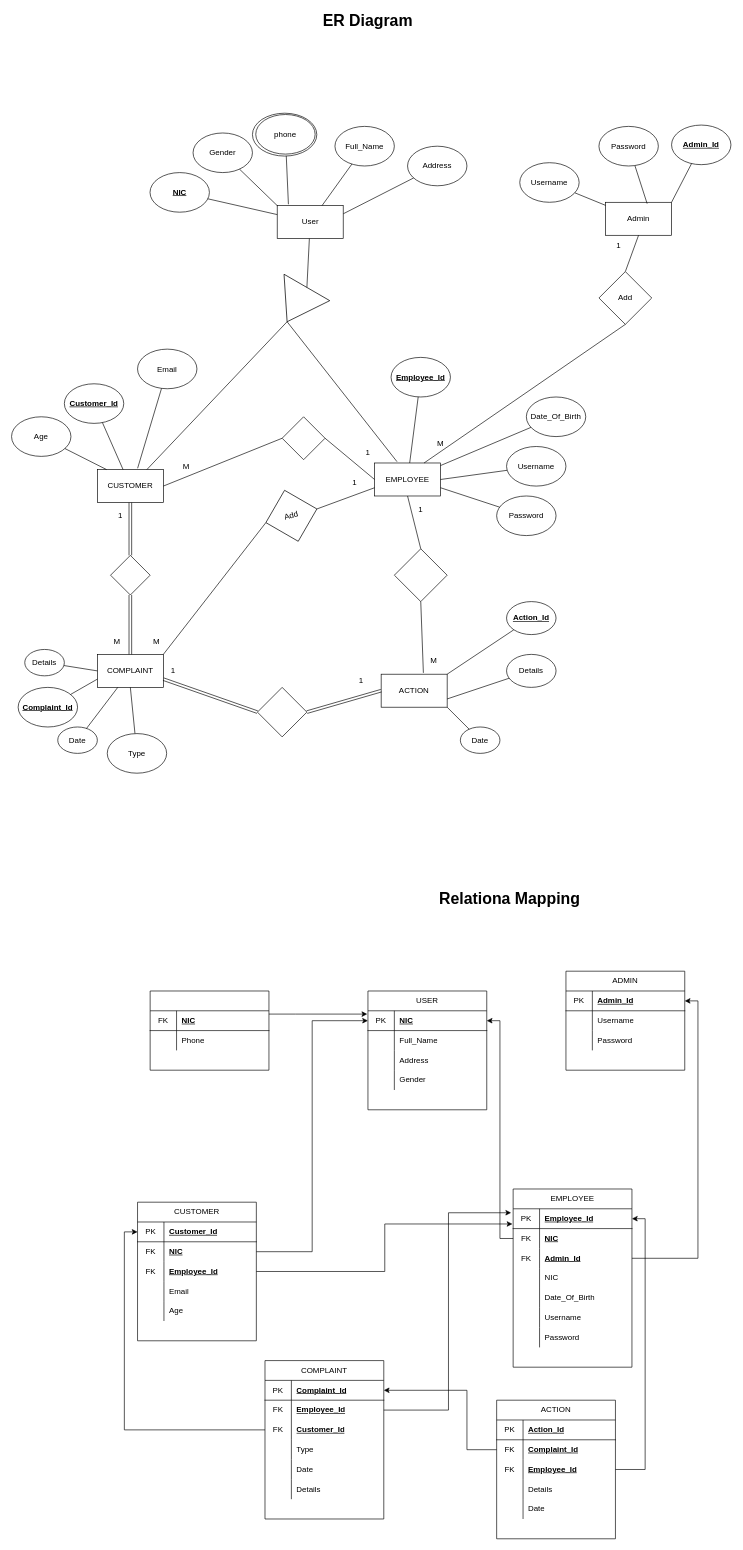
The diagram is 743 pixels wide and 1550 high, and some of its shapes have lost their labels. The box of each missing label's shape, as (x1, y1, x2, y2) in pixels:
Create: (394, 548, 447, 602)
Has: (257, 687, 307, 737)
ISA: (263, 273, 330, 335)
Send: (110, 555, 150, 595)
USERPHONE: (149, 990, 269, 1070)
Visit: (281, 416, 325, 460)
